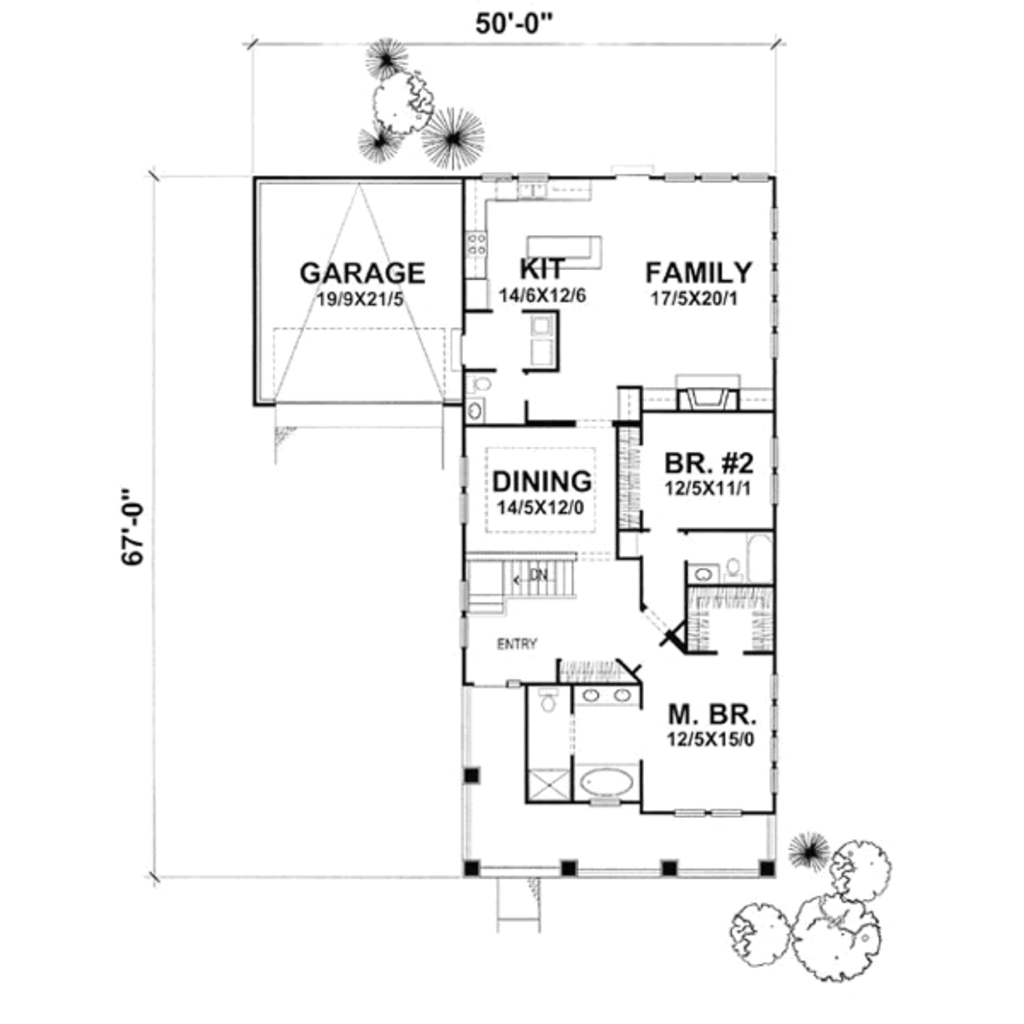large_sink: (523, 686, 561, 717), (458, 373, 507, 397), (718, 554, 742, 585)
small_sink: (570, 682, 648, 707), (467, 394, 485, 424)
stairs: (462, 551, 584, 620)
tub: (571, 764, 639, 798), (747, 532, 781, 591)
twin_sink: (516, 172, 554, 207)
window: (656, 163, 771, 187), (659, 800, 750, 825), (477, 161, 552, 186), (454, 451, 479, 526), (758, 434, 785, 499)
